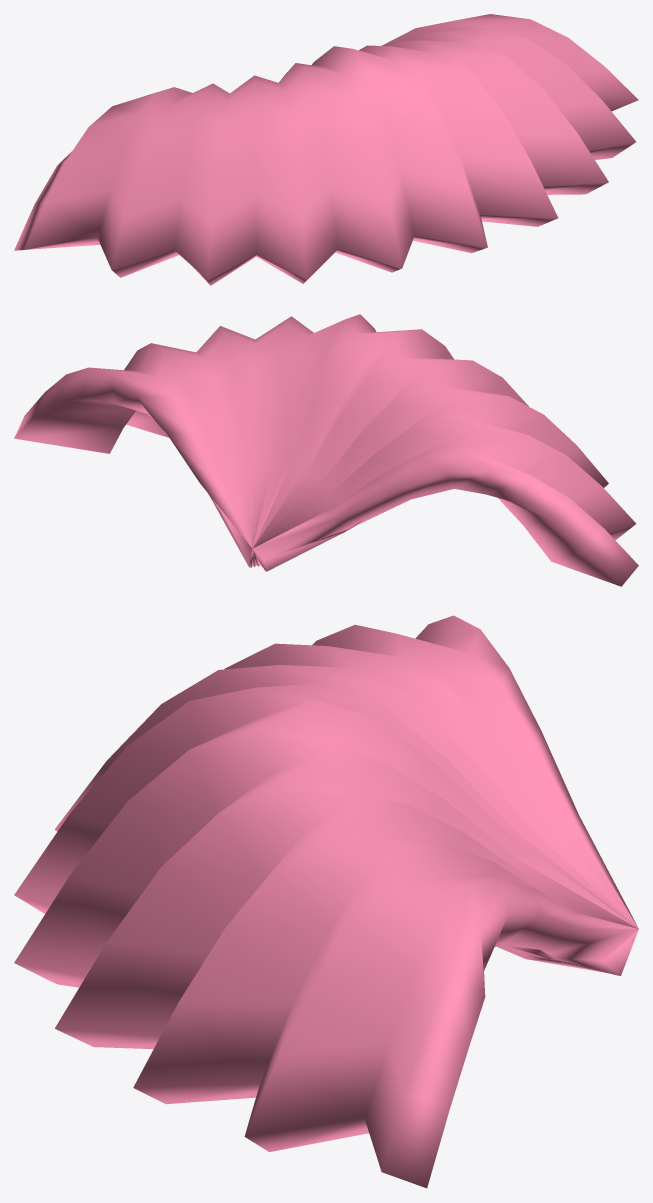
Rendered from seashell.glb.
3 renders of one model, top to bottom at view 1: azimuth 30°, elevation 25°; view 2: azimuth 150°, elevation 25°; view 3: azimuth 270°, elevation 25°, orthographic. The views are drawn at different scales.
Parts seen in each view (by area): view 1: seashell; view 2: seashell; view 3: seashell.
Part boxes in pixels (left/top/right/bottom): seashell: left=14, top=14, right=638, bottom=285; seashell: left=14, top=314, right=638, bottom=586; seashell: left=14, top=615, right=638, bottom=1188.
Bounding box in the file's own units: 0.3184 × 0.0825 × 0.173.
